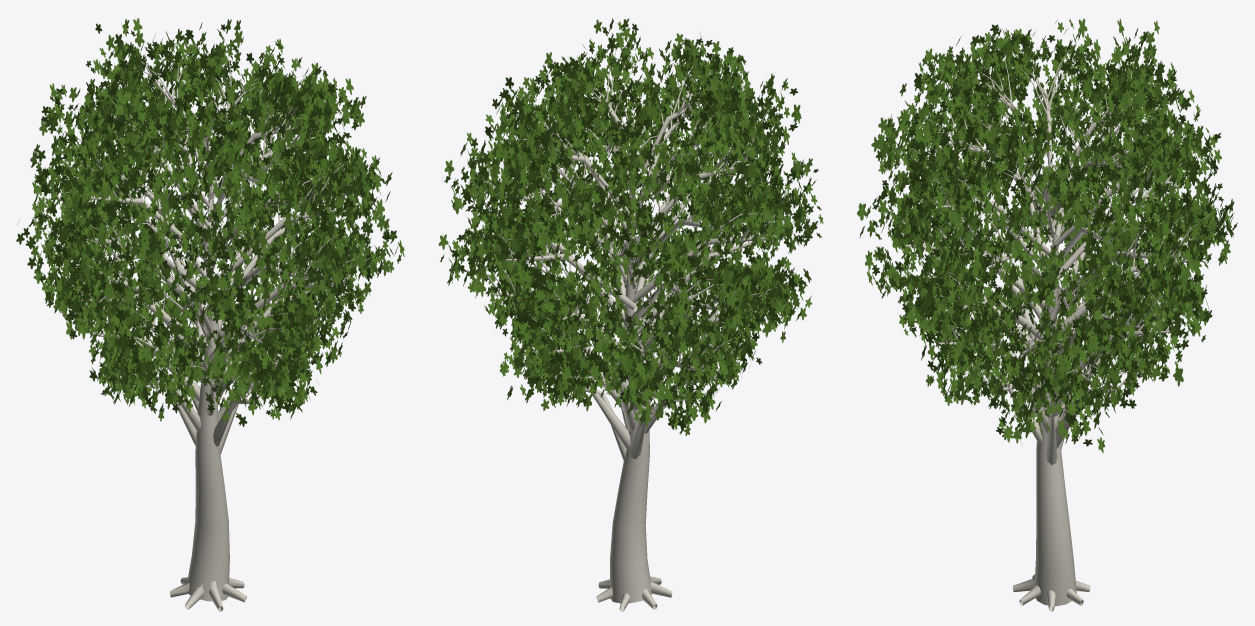
Rendered from tour-birch.glb.
3 renders of one model, left to right at view 1: azimuth 30°, elevation 25°; view 2: azimuth 150°, elevation 25°; view 3: azimuth 270°, elevation 25°, orthographic.
Parts seen in each view (by area): view 1: red-maple; view 2: red-maple; view 3: red-maple.
Boxes of the visible parts, bbox=[...] form: red-maple: bbox=[16, 18, 404, 611]; red-maple: bbox=[438, 18, 823, 611]; red-maple: bbox=[857, 18, 1237, 611].
Bounding box in the file's own units: 8.07 × 13.05 × 8.26.
Materials: 2 (1 with a texture image).
